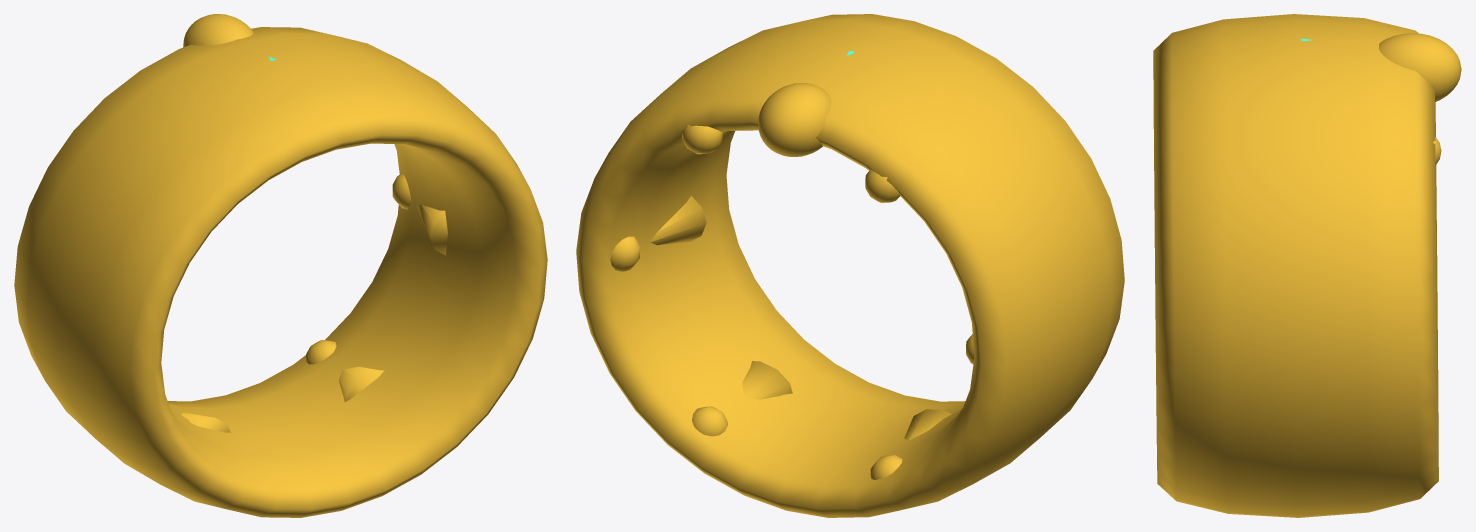
The model's file is hat_crown.glb.
3 views of the same model, side by side, from view 1: azimuth 30°, elevation 25°; view 2: azimuth 150°, elevation 25°; view 3: azimuth 270°, elevation 25° (orthographic). The views are drawn at different scales.
Parts seen in each view (by area): view 1: Hat_hat_crown_CrownBand, Hat_hat_crown_CrownAcorn, Hat_hat_crown_CrownPoint_1, Hat_hat_crown_CrownPoint_2; view 2: Hat_hat_crown_CrownBand, Hat_hat_crown_CrownAcorn, Hat_hat_crown_CrownPoint_1, Hat_hat_crown_CrownPoint_2, Hat_hat_crown_CrownOrb_0, Hat_hat_crown_CrownOrb_2, Hat_hat_crown_CrownOrb_1, Hat_hat_crown_CrownOrb_5, Hat_hat_crown_CrownPoint_3; view 3: Hat_hat_crown_CrownBand, Hat_hat_crown_CrownAcorn.
Part boxes in pixels (bbox=[...]): Hat_hat_crown_CrownBand: bbox=[14, 27, 547, 517]; Hat_hat_crown_CrownAcorn: bbox=[183, 14, 253, 47]; Hat_hat_crown_CrownPoint_1: bbox=[417, 204, 447, 255]; Hat_hat_crown_CrownPoint_2: bbox=[338, 366, 384, 401]; Hat_hat_crown_CrownBand: bbox=[576, 14, 1124, 517]; Hat_hat_crown_CrownAcorn: bbox=[758, 83, 831, 156]; Hat_hat_crown_CrownPoint_1: bbox=[650, 196, 706, 245]; Hat_hat_crown_CrownPoint_2: bbox=[742, 361, 792, 399]; Hat_hat_crown_CrownOrb_0: bbox=[682, 124, 722, 154]; Hat_hat_crown_CrownOrb_2: bbox=[692, 406, 727, 436]; Hat_hat_crown_CrownOrb_1: bbox=[610, 236, 640, 271]; Hat_hat_crown_CrownOrb_5: bbox=[865, 170, 900, 202]; Hat_hat_crown_CrownPoint_3: bbox=[904, 409, 951, 440]; Hat_hat_crown_CrownBand: bbox=[1153, 14, 1438, 517]; Hat_hat_crown_CrownAcorn: bbox=[1379, 33, 1461, 101].
Bounding box in the file's own units: 0.7357 × 0.6657 × 0.4118.
